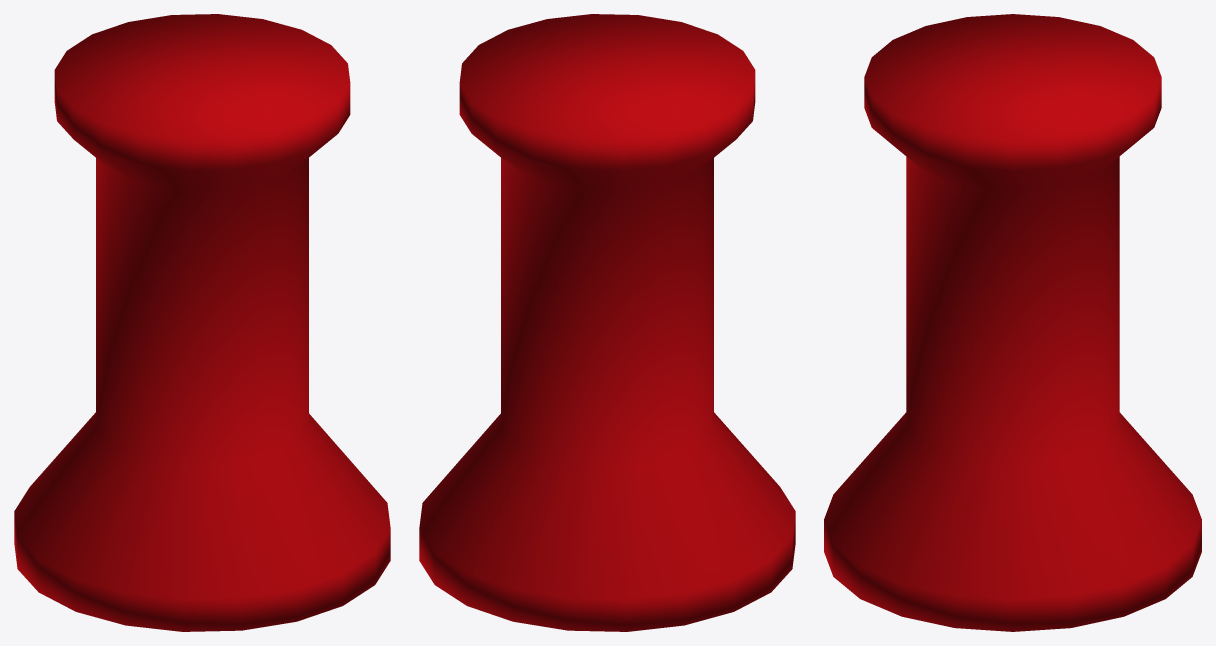
Rendered from push_pin.gltf.
3 views of the same model, side by side, from view 1: azimuth 30°, elevation 25°; view 2: azimuth 150°, elevation 25°; view 3: azimuth 270°, elevation 25° (orthographic).
Visible parts, largest first — view 1: pCone2; view 2: pCone2; view 3: pCone2.
Boxes of the visible parts, left/top/right/bottom form: pCone2: left=14, top=14, right=390, bottom=631; pCone2: left=419, top=14, right=795, bottom=631; pCone2: left=824, top=14, right=1201, bottom=631.
Size of the model in its own units: 0.0086 by 0.0119 by 0.0086.
